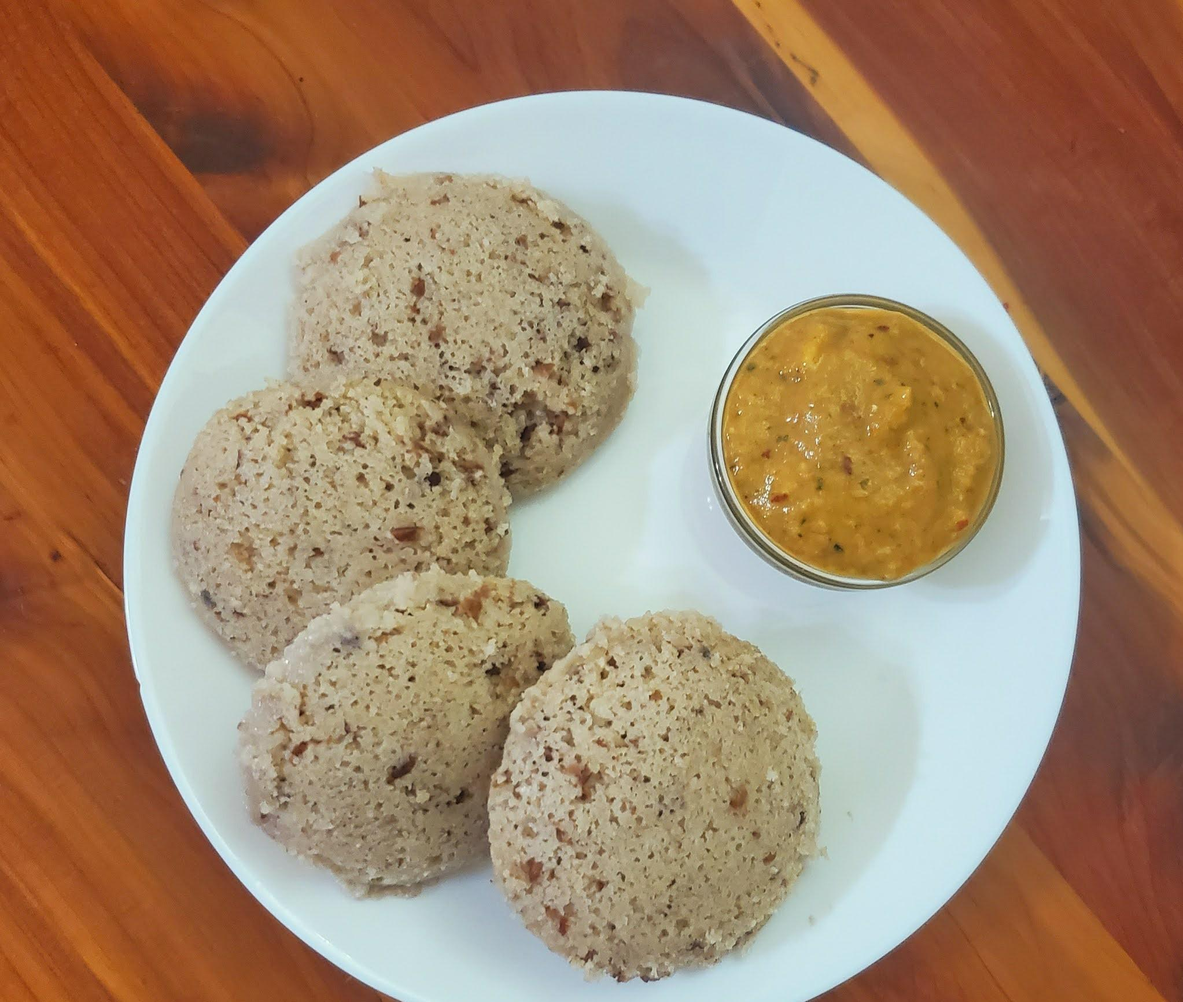Idli: (279, 172, 631, 503), (496, 612, 820, 968), (230, 580, 576, 897), (175, 384, 510, 668)
